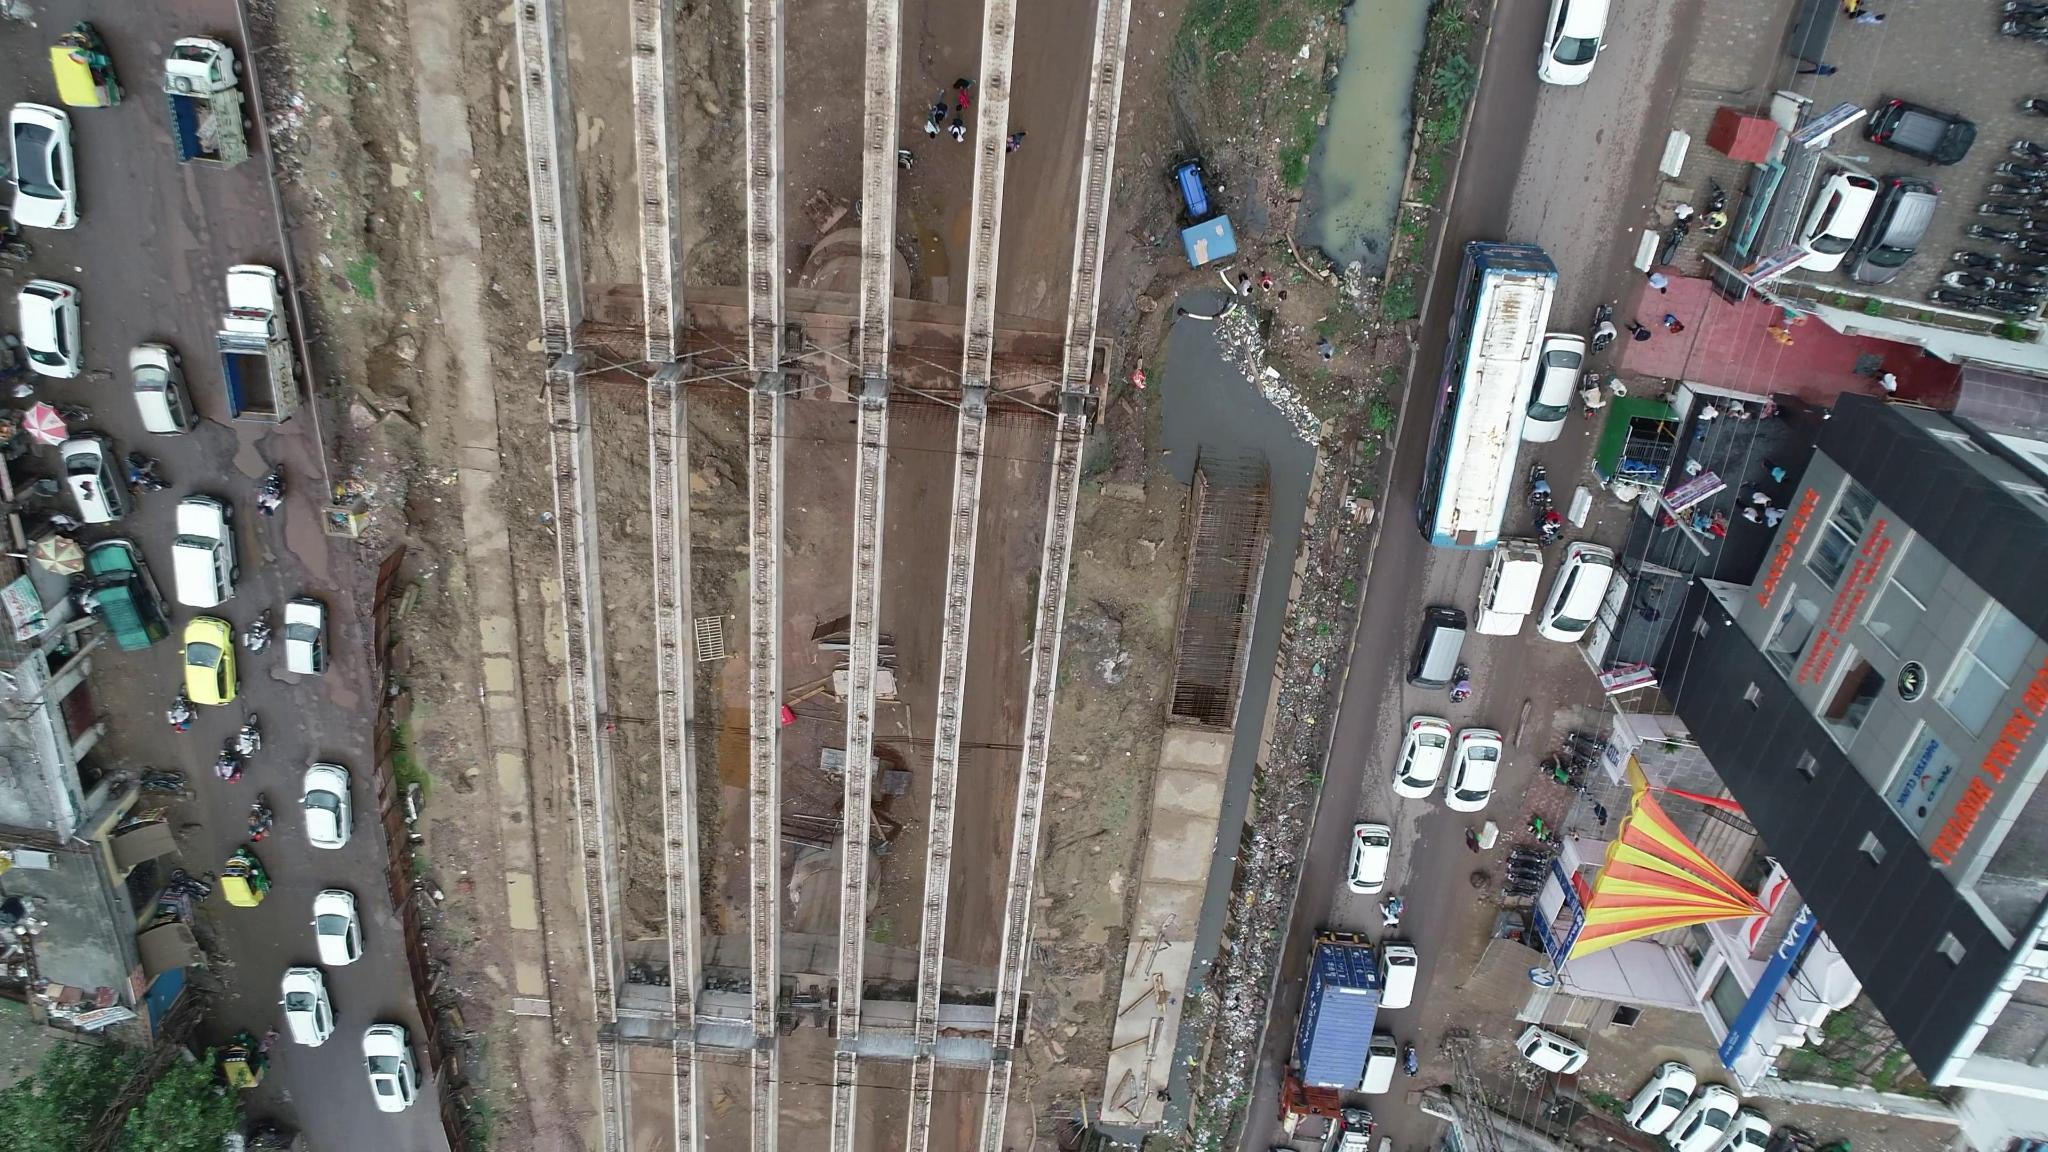Potholes: (262, 670, 343, 706), (263, 537, 309, 596)
